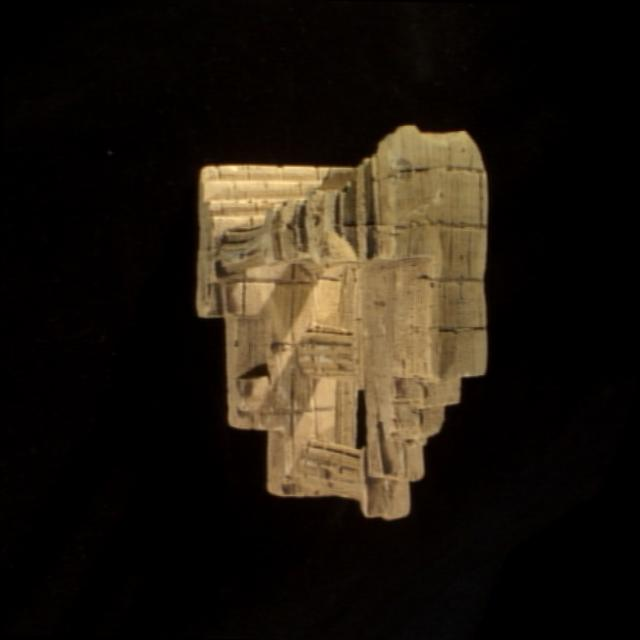Instance-Segmentation: (197, 125, 486, 515)
